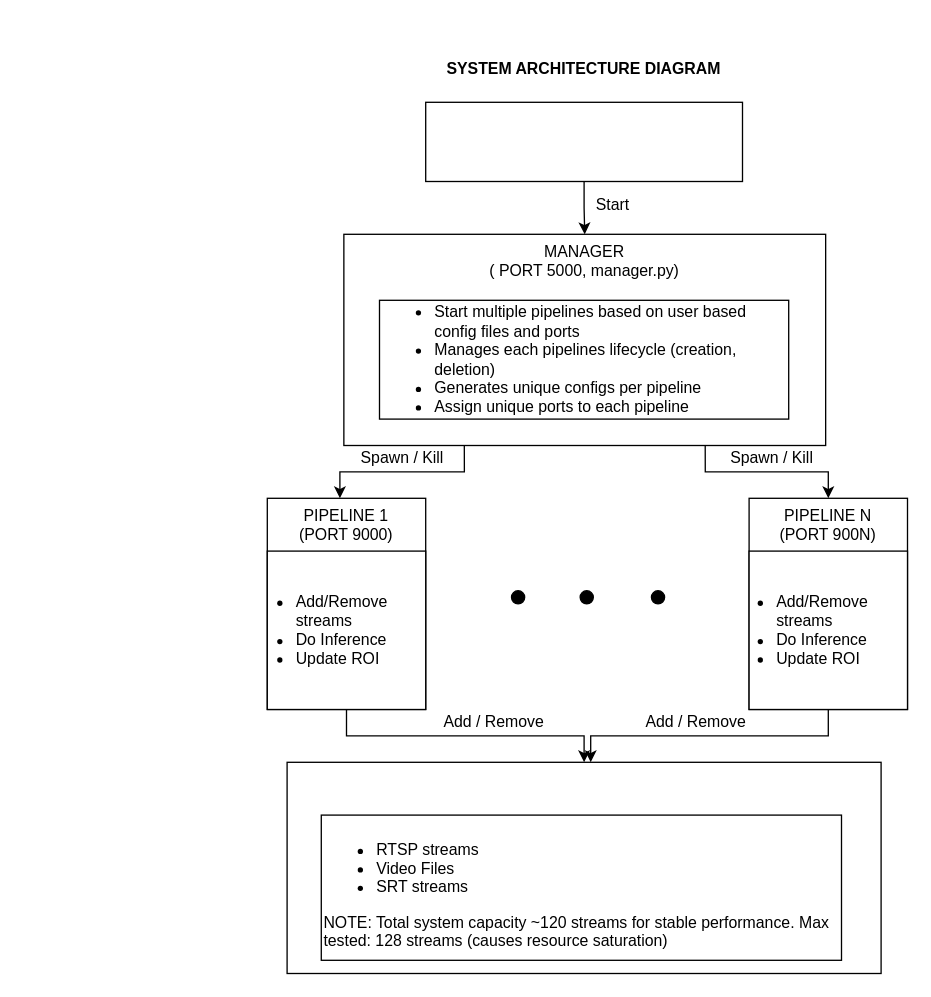
Image size: 931x997. Some labels were removed from this diagram. The shapes that lost their labels are listed below. From the top down, each one's box as (x1, y1, x2, y2) in pixels, then its label:
(424, 101, 742, 182): USER / CLIENT (cURL, Python Script, REST API Calls)
(286, 761, 881, 974): DYNAMIC SOURCES
